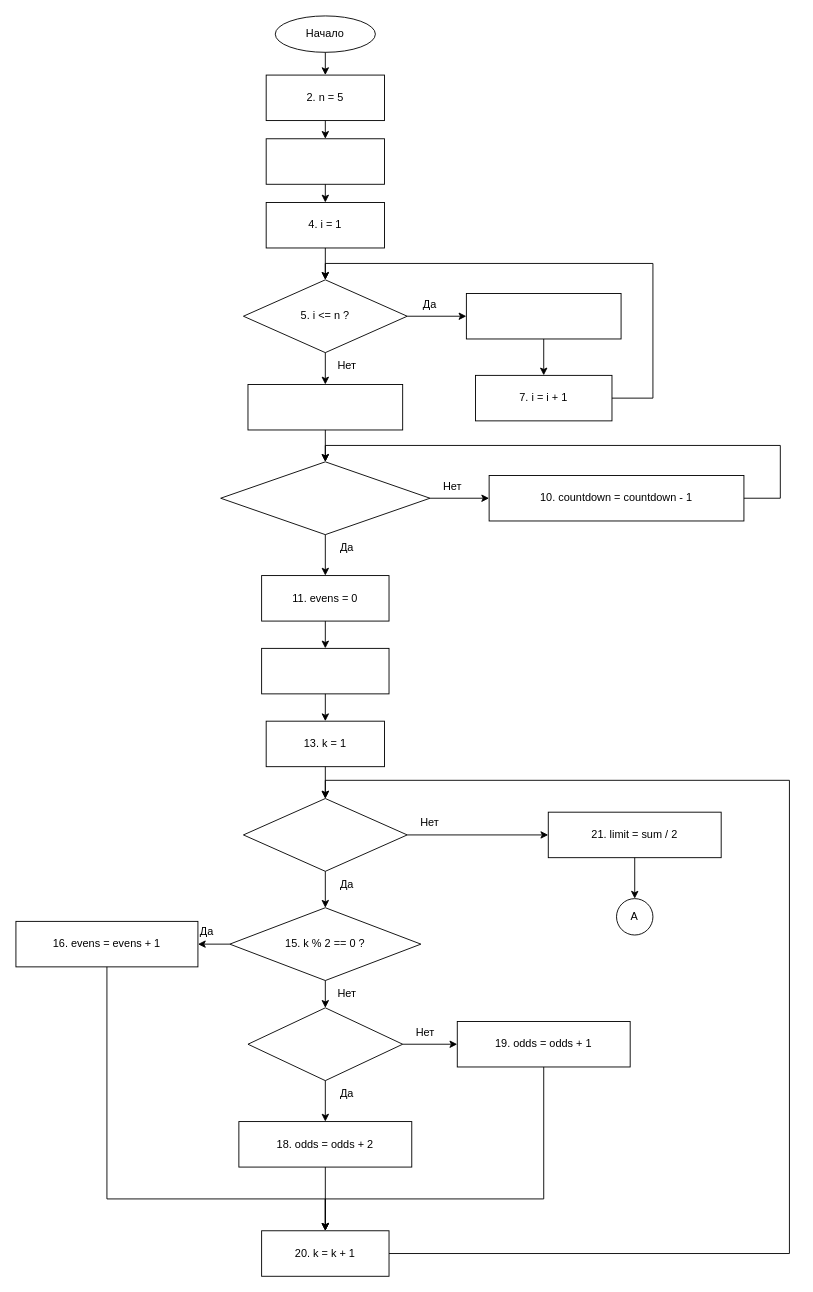
Image size: 813x1292. Some labels were removed from this diagram. The centre of each missing label's shape, as x and y in pixels:
12. odds = 0: [325,670]
14. k <= n ?: [325,834]
17. k == n ?: [325,1044]
3. sum = 0: [324,161]
6. sum = sum + i: [543,316]
8. countdown = n: [325,407]
9. countdown == 0 ?: [325,498]
